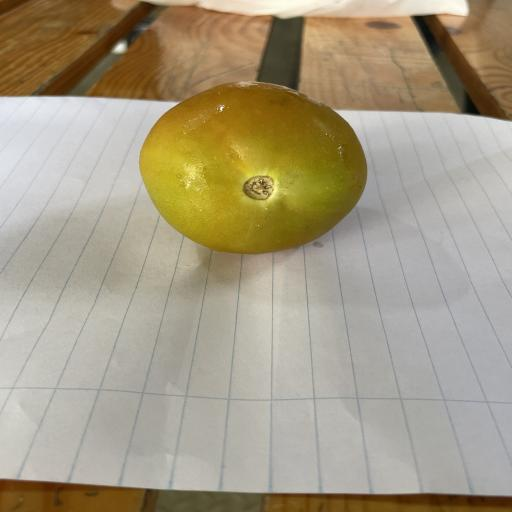ripe: (140, 82, 367, 254)
